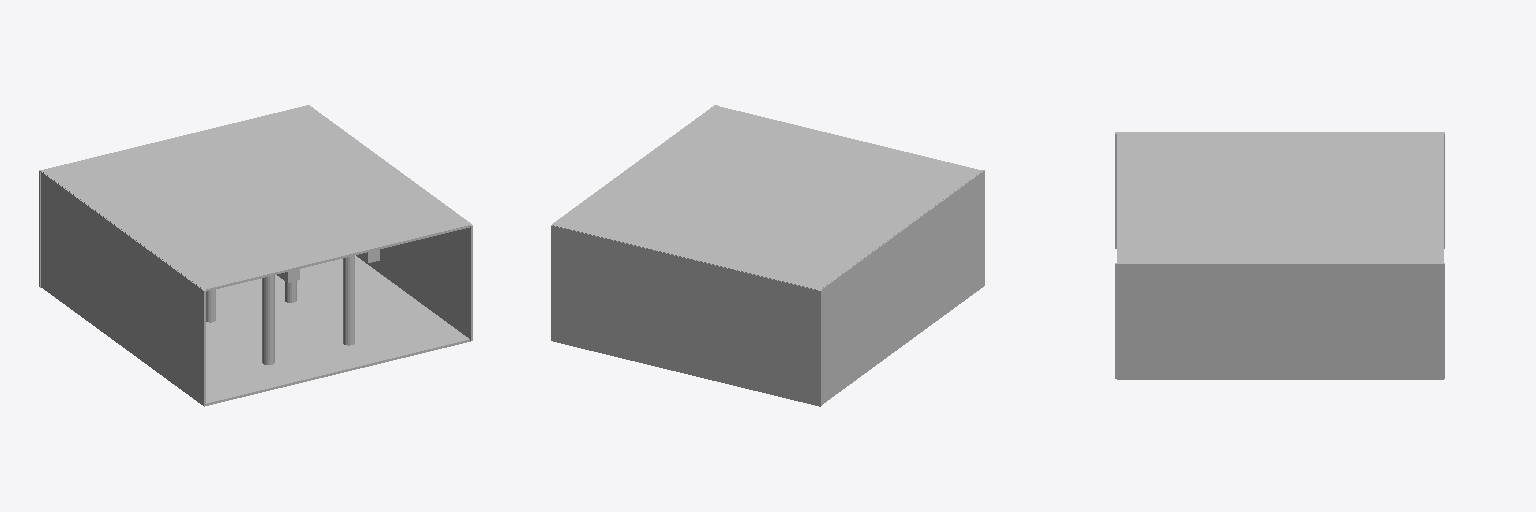
The model's file is RoomPreset.obj.
3 views of the same model, side by side, from view 1: azimuth 30°, elevation 25°; view 2: azimuth 150°, elevation 25°; view 3: azimuth 270°, elevation 25° (orthographic).
Visible parts, largest first — view 1: Structure ALL roof, floor Structure ALL, Structure ALL wall7, Structure ALL wall6, ALL columns pCylinder3, ALL columns pCylinder4; view 2: Structure ALL roof, Structure ALL wall3, Structure ALL wall7; view 3: Structure ALL roof, Structure ALL wall6, Structure ALL wall7, floor Structure ALL.
Boxes of the visible parts, x1,y1,x2,y2 form: Structure ALL roof: [41, 105, 471, 291]; floor Structure ALL: [206, 255, 470, 405]; Structure ALL wall7: [39, 170, 205, 406]; Structure ALL wall6: [356, 225, 472, 340]; ALL columns pCylinder3: [262, 275, 274, 364]; ALL columns pCylinder4: [343, 256, 354, 345]; Structure ALL roof: [552, 105, 981, 289]; Structure ALL wall3: [553, 226, 821, 406]; Structure ALL wall7: [818, 170, 984, 406]; Structure ALL roof: [1117, 133, 1443, 265]; Structure ALL wall6: [1115, 263, 1444, 378]; Structure ALL wall7: [1115, 132, 1444, 248]; floor Structure ALL: [1117, 378, 1443, 379].
Bounding box in the file's own units: 157 × 64.86 × 166.